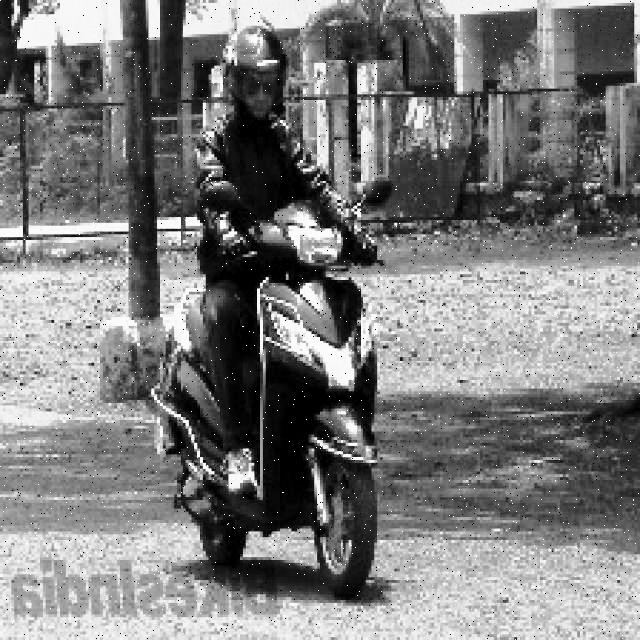Bike: (149, 223, 395, 597)
